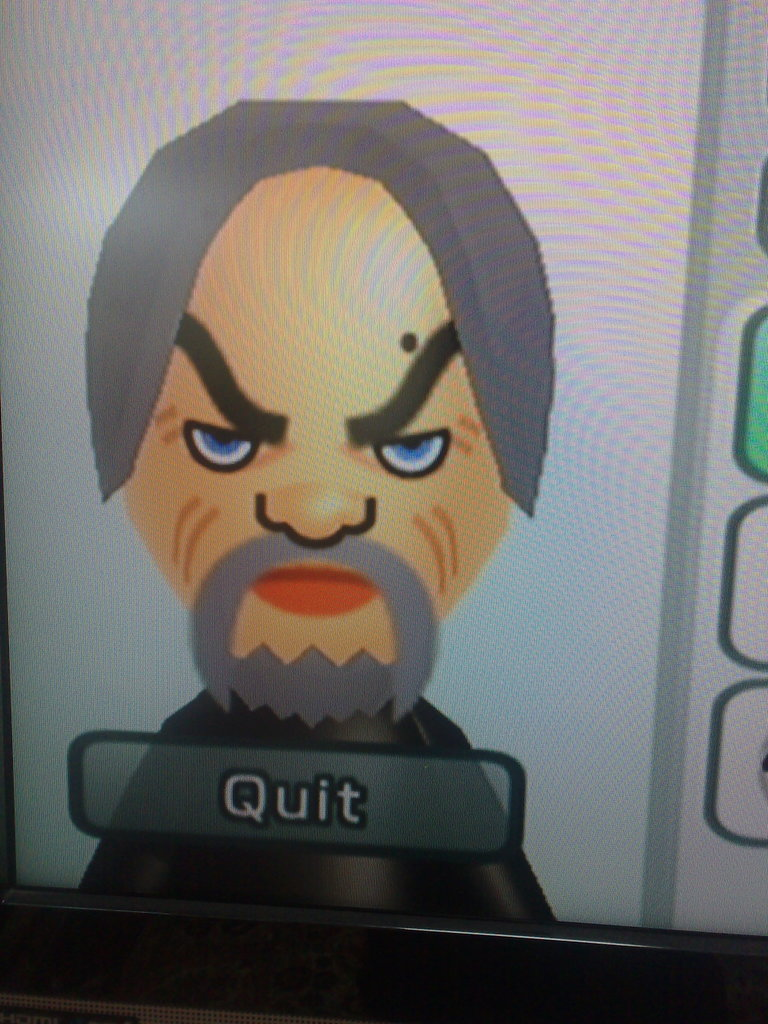Human-face: (121, 168, 500, 671)
